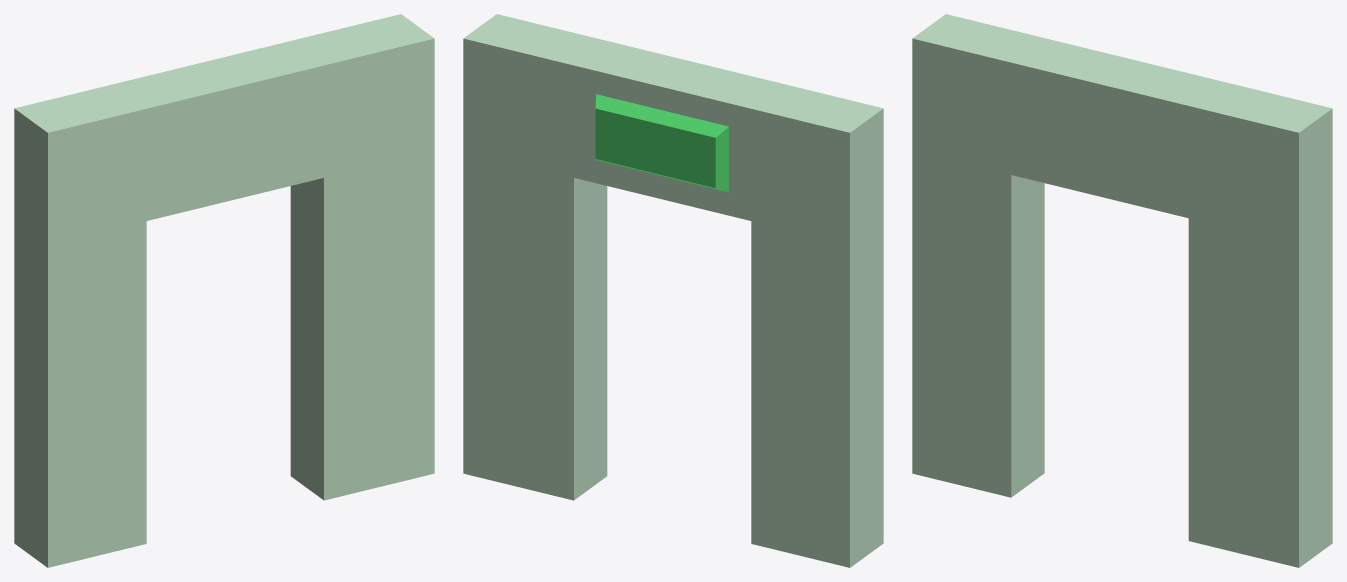
Rendered from tile_exit.gltf.
3 views of the same model, side by side, from view 1: azimuth 30°, elevation 25°; view 2: azimuth 150°, elevation 25°; view 3: azimuth 330°, elevation 25° (orthographic).
Parts seen in each view (by area): view 1: tile_exit; view 2: tile_exit; view 3: tile_exit.
Part boxes in pixels (x1,y1,x2,y2): tile_exit: (14, 14, 434, 567); tile_exit: (463, 14, 883, 567); tile_exit: (912, 14, 1332, 567).
Size of the model in its own units: 2 by 2.15 by 0.3624.
